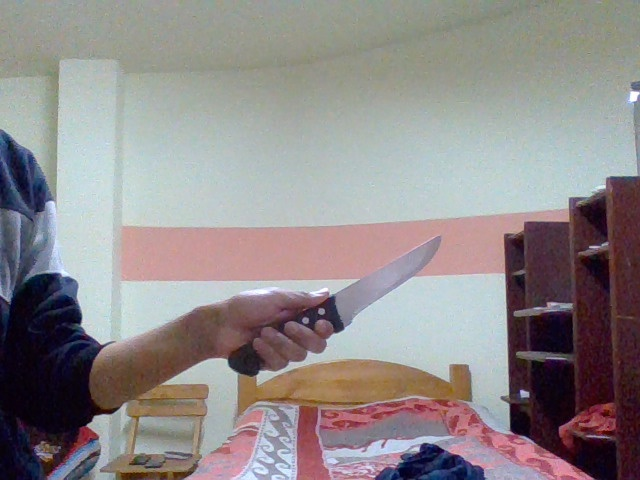cuchillo: (227, 223, 448, 387)
